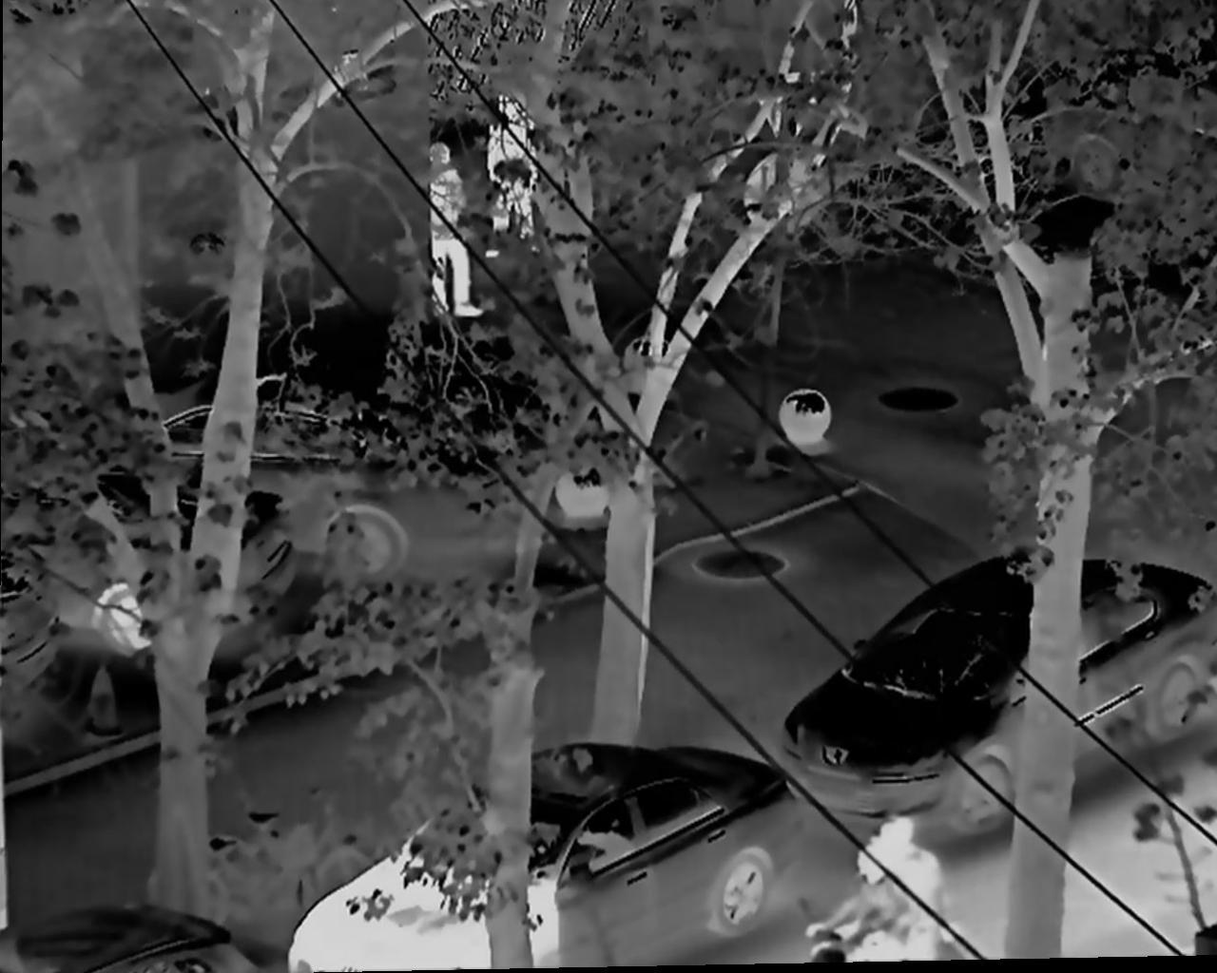person: (810, 841, 918, 970), (424, 141, 486, 322), (486, 105, 538, 258)
